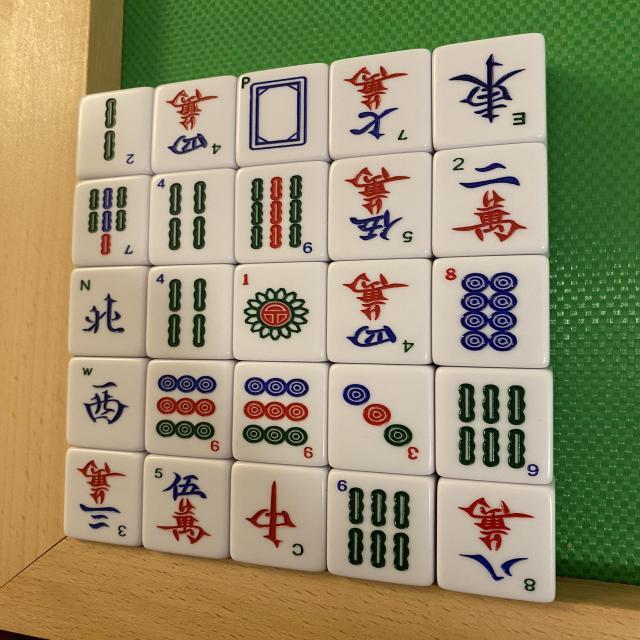hdr: (231, 466, 327, 574)
hdw: (239, 66, 330, 168)
hwe: (438, 50, 533, 134)
hwn: (73, 268, 149, 356)
hww: (74, 361, 148, 456)
sb2: (76, 88, 151, 180)
sb4: (150, 266, 235, 360), (152, 172, 236, 266)
sb6: (432, 370, 544, 487), (330, 476, 436, 588)
sb7: (79, 172, 151, 264)
sb9: (236, 161, 328, 263)
sc2: (435, 147, 549, 260)
sc3: (62, 448, 142, 545)
sc4: (326, 262, 428, 368), (156, 78, 237, 175)
sc5: (328, 154, 431, 261)
sc7: (329, 50, 430, 160)
sc8: (444, 491, 544, 591)
sd1: (238, 262, 328, 362)
sd3: (333, 370, 427, 468)
sd5: (140, 451, 226, 554)
sd8: (434, 259, 546, 371)
sd9: (235, 364, 326, 470), (149, 362, 234, 462)
